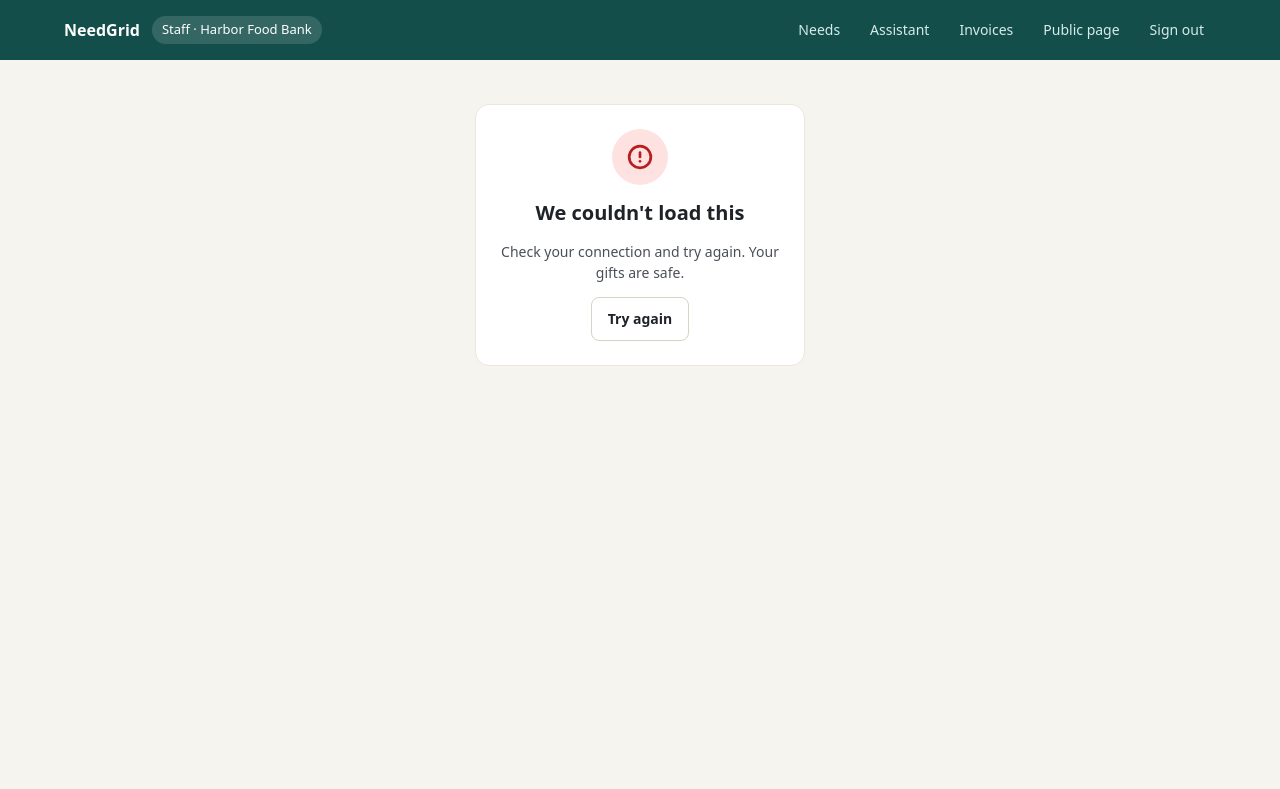
Test: Staff need page /staff/needs/:id by status › shows an error with Try again when the need can't load
Click the button "Try again". click: (640, 319)
box: x1=591 y1=297 x2=689 y2=341
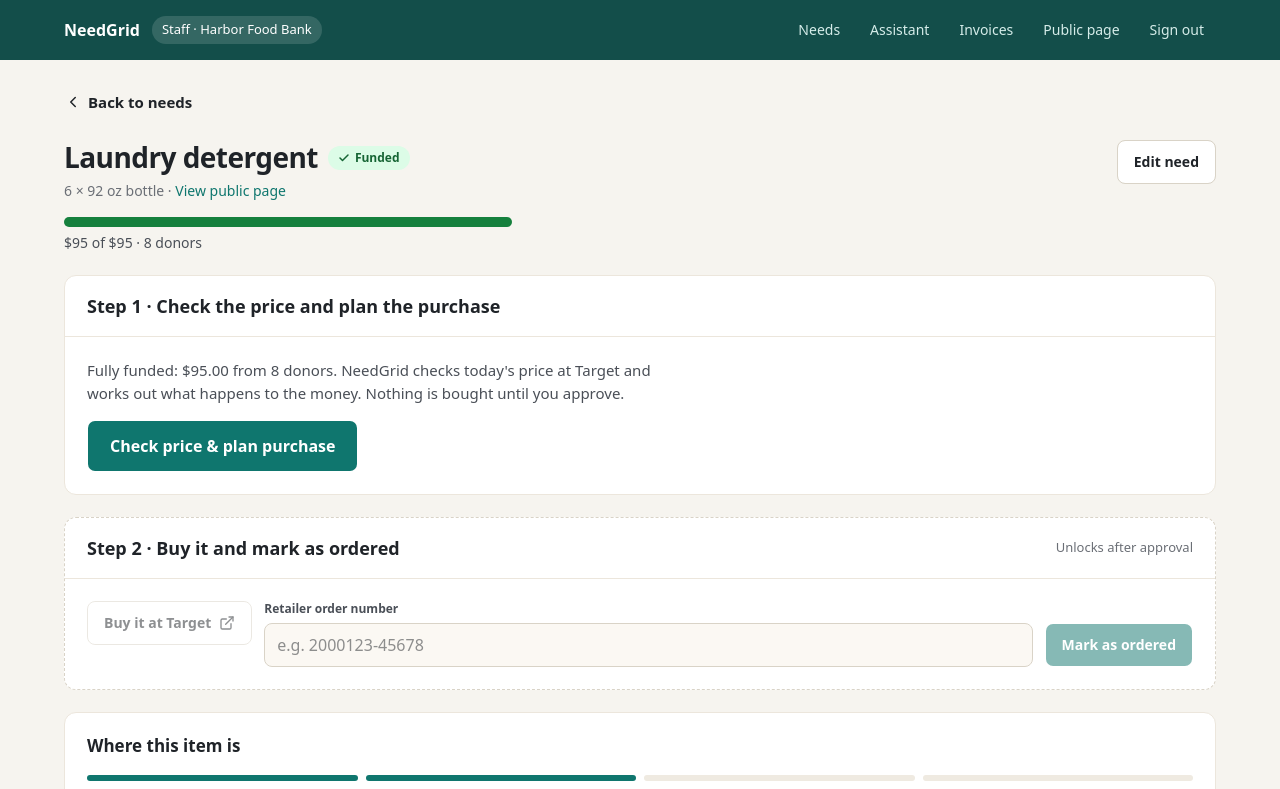
Check: the heading "Laundry detergent" is shown, box x1=64 y1=140 x2=318 y2=175
